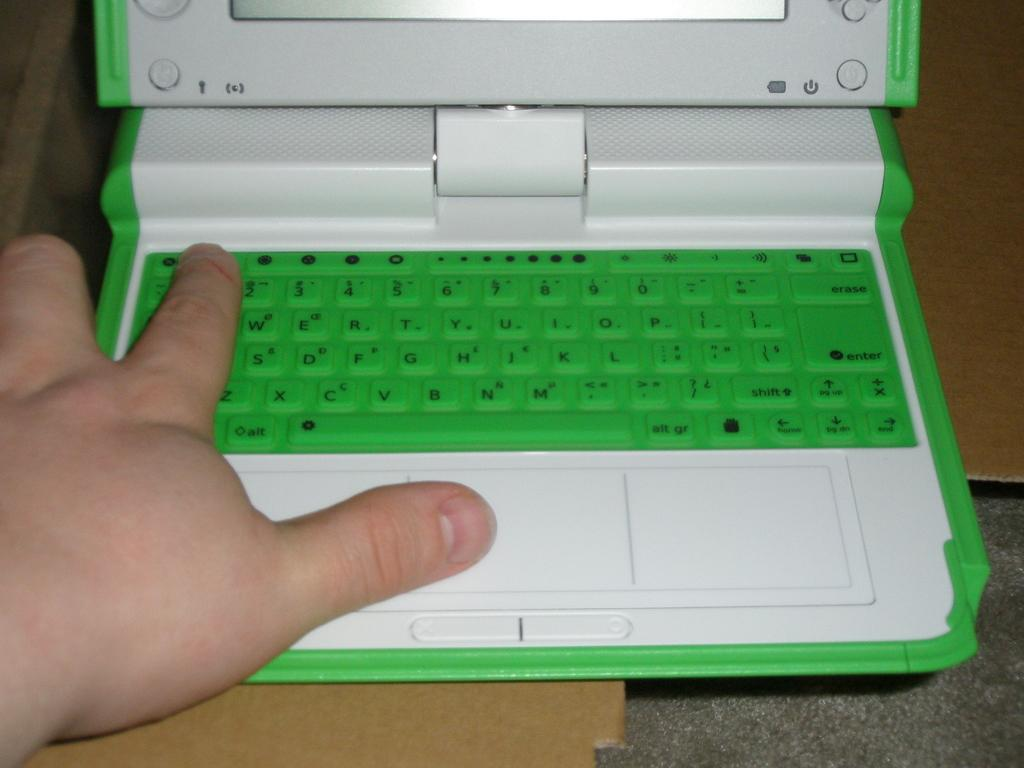Laptop: (93, 0, 988, 682)
